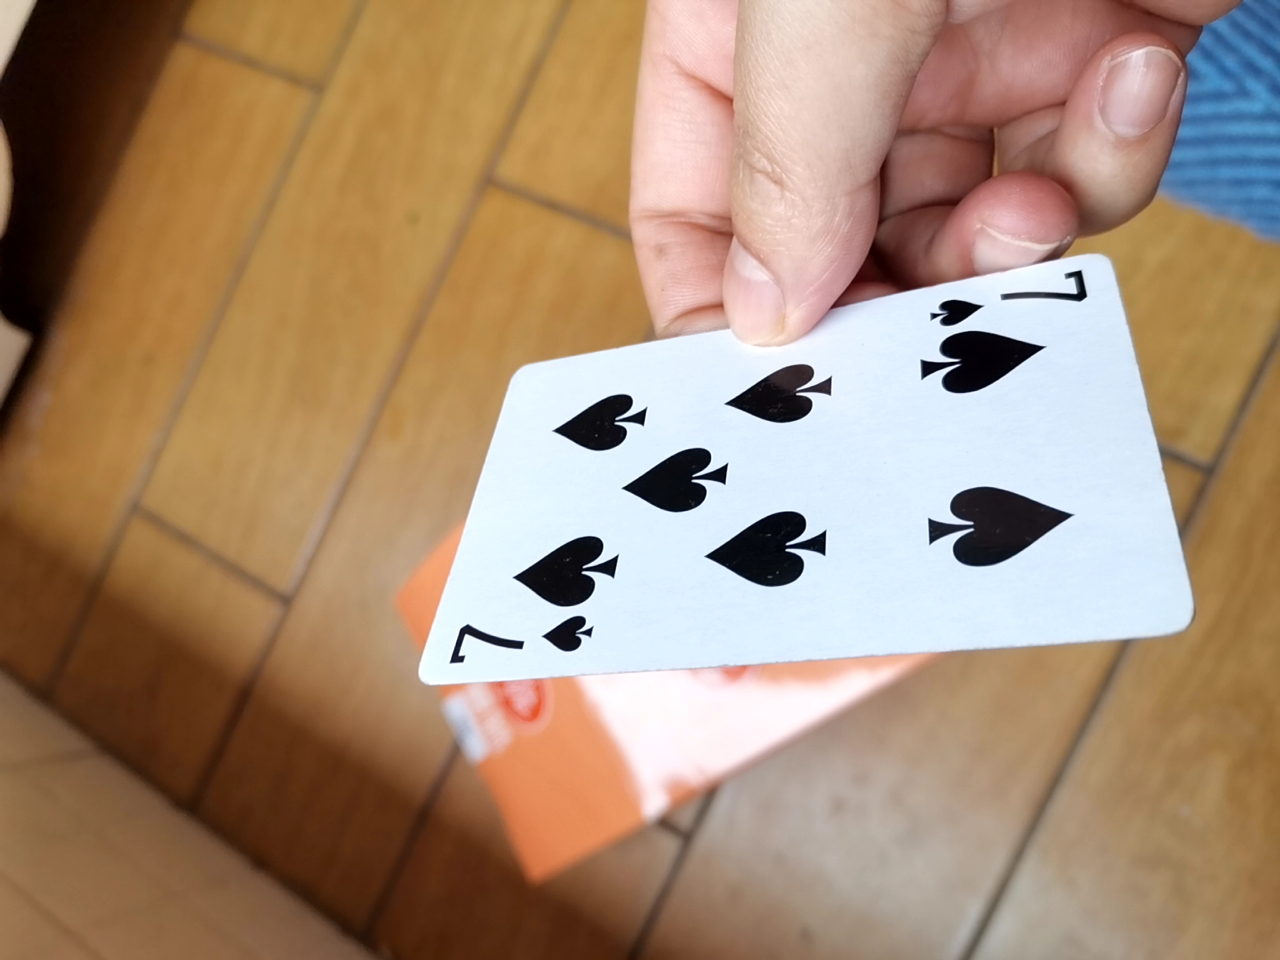ht 7: (423, 261, 1206, 747)
